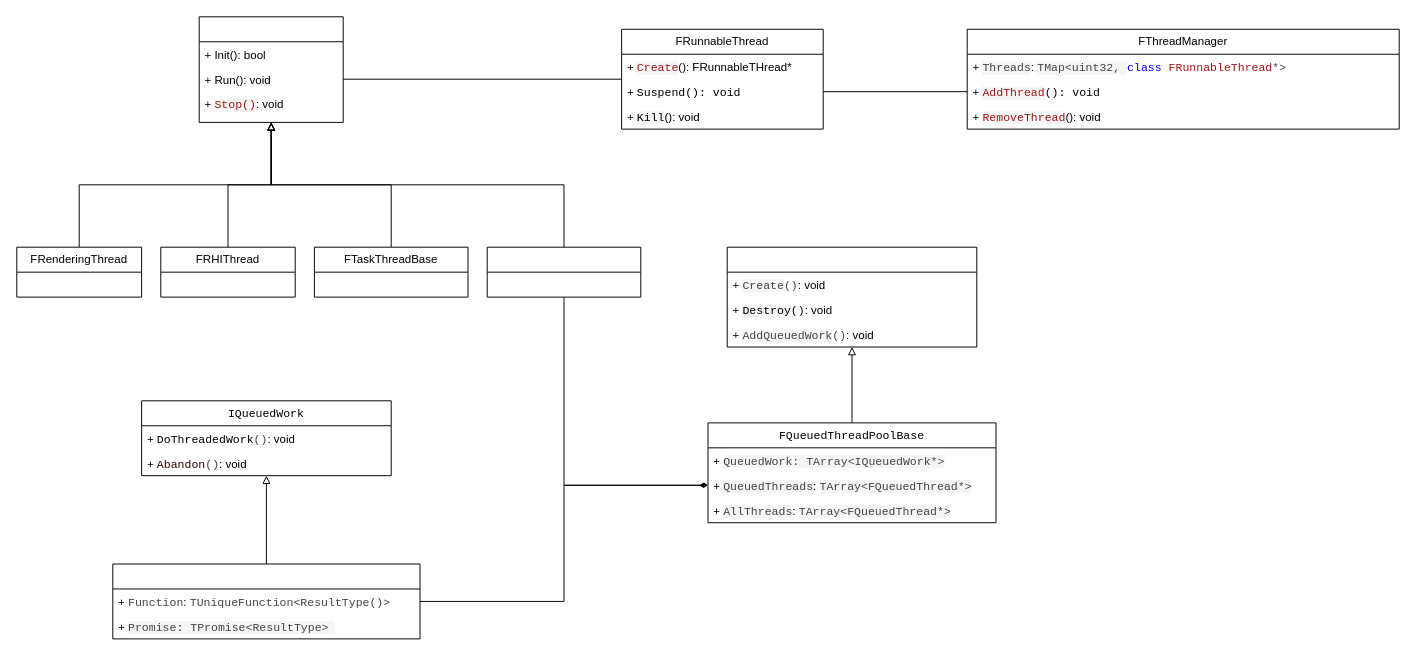
Image size: 1416x659. Some labels were removed from this diagram. The shapes that lost their labels are listed below. From the top down, each one's box as (x1, y1, x2, y2) in pixels, then its label:
(198, 16, 343, 122): FRunnable
(486, 246, 641, 297): FQueuedThread
(726, 246, 977, 347): FQueuedThreadPool
(112, 563, 420, 639): IAsyncQueuedWork
